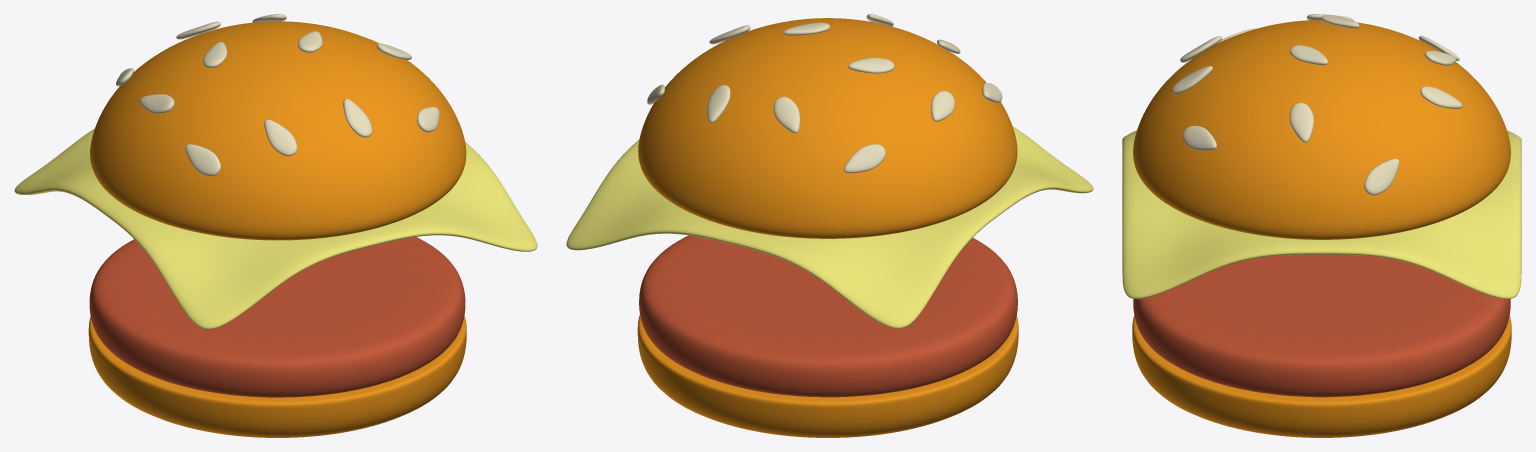
Rendered from burgerHead.glb.
The picture shows the model from 3 angles, left to right: view 1: azimuth 30°, elevation 25°; view 2: azimuth 150°, elevation 25°; view 3: azimuth 270°, elevation 25°; orthographic projection.
Parts seen in each view (by area): view 1: Sphere, Circle.002, Plane, Circle, Plane.002, Plane.005, Plane.009, Plane.006; view 2: Sphere, Circle.002, Plane, Circle, Plane.003, Plane.008, Plane.004, Plane.006, Plane.001; view 3: Sphere, Circle.002, Plane, Circle, Plane.010, Plane.011, Plane.012, Plane.004, Plane.007, Plane.009.
Part boxes in pixels (<box>): Sphere: <box>90,21,466,240</box>; Circle.002: <box>89,237,465,397</box>; Plane: <box>14,128,537,329</box>; Circle: <box>88,315,466,437</box>; Plane.002: <box>264,119,297,156</box>; Plane.005: <box>185,144,220,176</box>; Plane.009: <box>343,98,372,137</box>; Plane.006: <box>139,94,174,113</box>; Sphere: <box>638,18,1017,238</box>; Circle.002: <box>639,235,1017,397</box>; Plane: <box>566,126,1093,328</box>; Circle: <box>637,315,1018,437</box>; Plane.003: <box>844,144,885,173</box>; Plane.008: <box>773,97,799,133</box>; Plane.004: <box>707,85,730,123</box>; Plane.006: <box>931,90,954,121</box>; Plane.001: <box>848,58,894,73</box>; Sphere: <box>1133,20,1510,239</box>; Circle.002: <box>1133,254,1510,397</box>; Plane: <box>1122,130,1521,299</box>; Circle: <box>1132,316,1511,437</box>; Plane.010: <box>1364,158,1399,195</box>; Plane.011: <box>1289,102,1313,142</box>; Plane.012: <box>1182,125,1216,150</box>; Plane.004: <box>1420,86,1462,108</box>; Plane.007: <box>1289,45,1327,65</box>; Plane.009: <box>1172,66,1212,94</box>.
Bounding box in the file's own units: 1.86 × 1.7 × 1.86.
